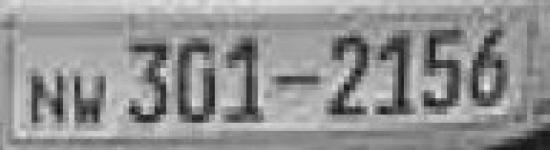-: (272, 68, 324, 91)
0: (171, 36, 221, 127)
1: (220, 33, 272, 131), (374, 25, 421, 121)
2: (324, 31, 373, 119)
3: (122, 38, 170, 126)
5: (422, 21, 469, 119)
6: (470, 17, 517, 113)
N: (25, 70, 69, 128)
W: (67, 66, 116, 130)
